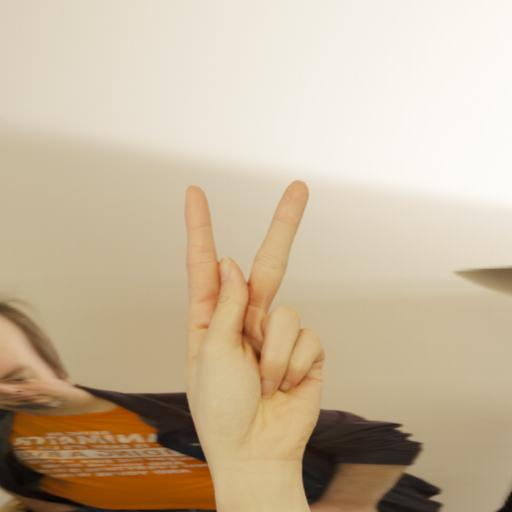K: (179, 176, 329, 466)
